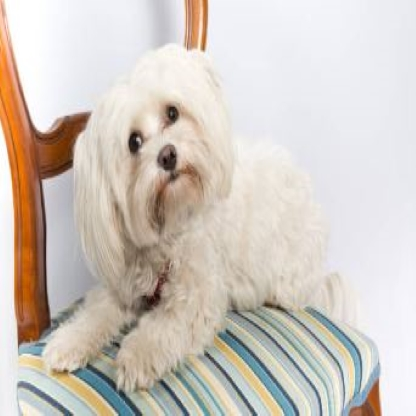maltese: (41, 41, 338, 389)
